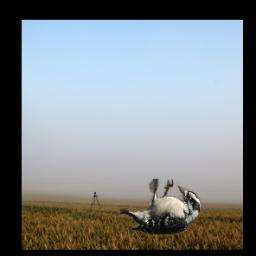Woodpecker: (119, 179, 200, 234)
